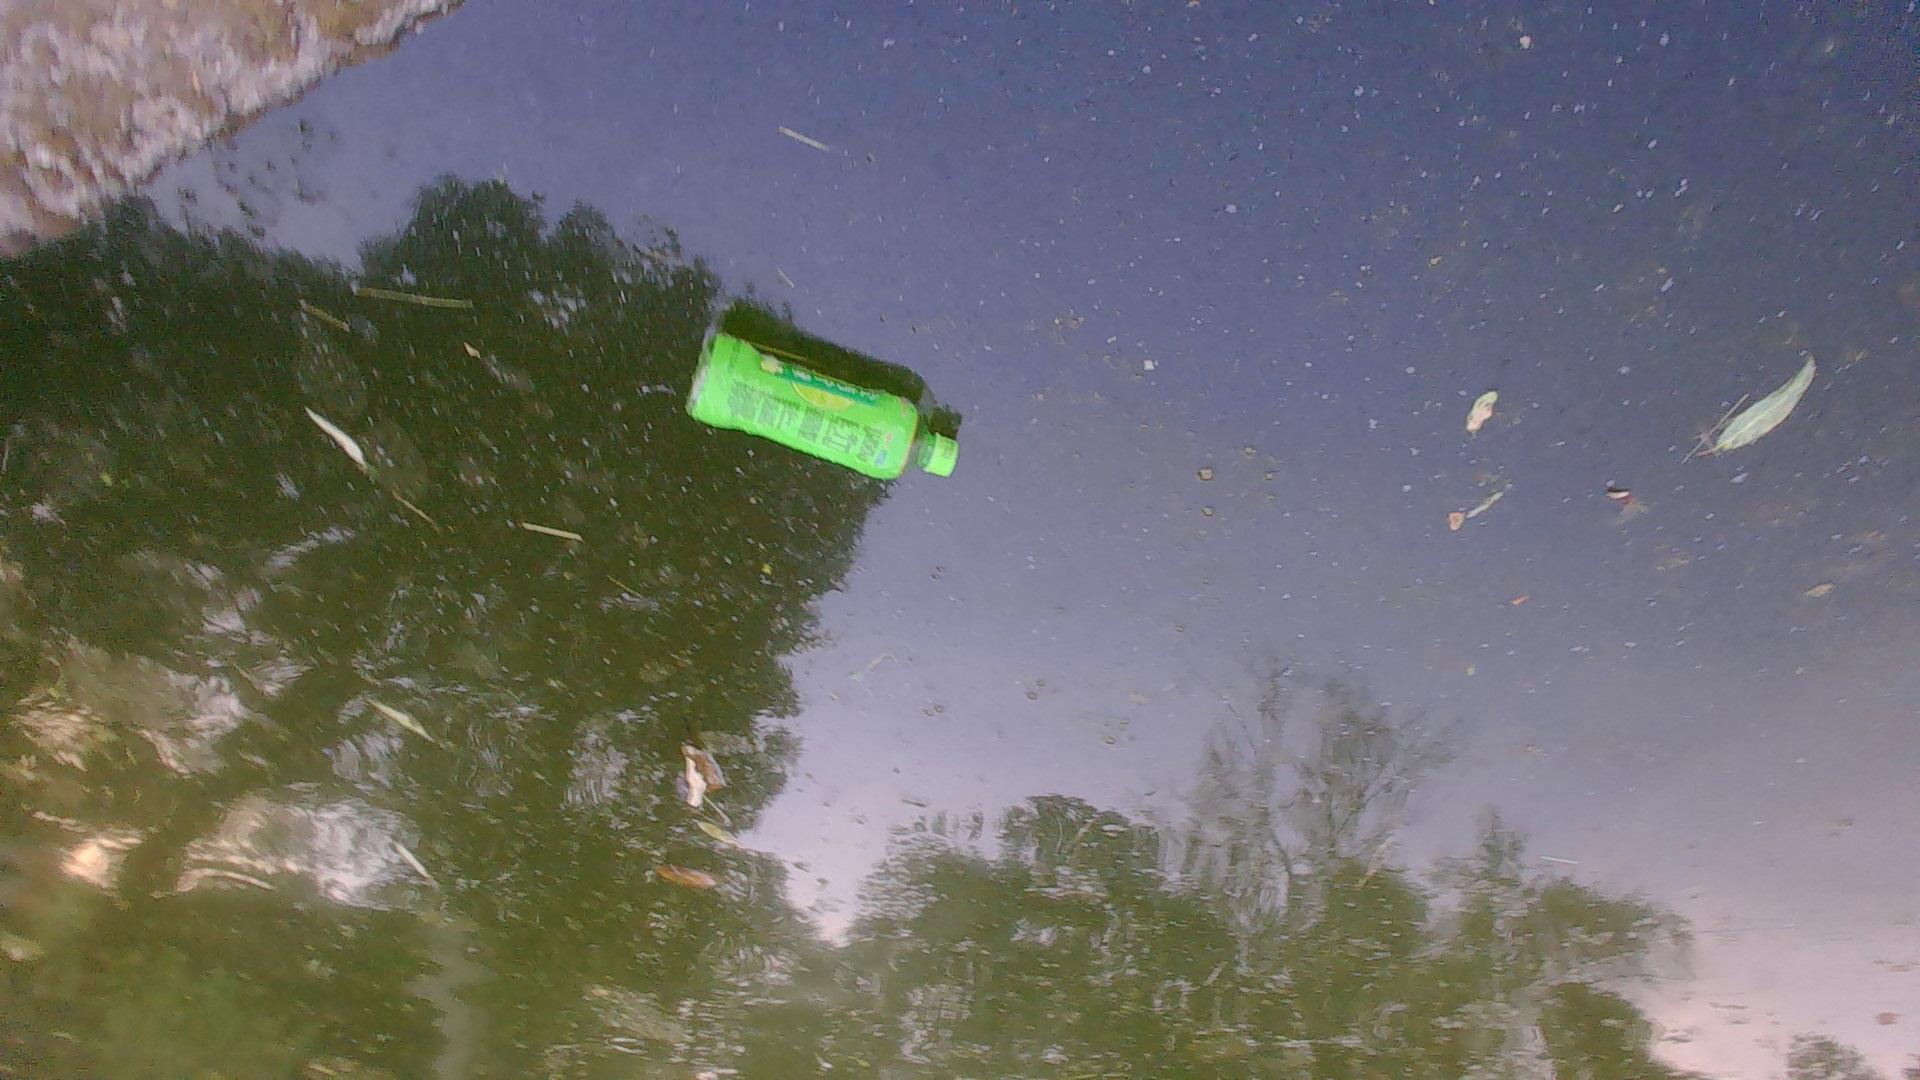Plastic: (675, 320, 976, 484)
